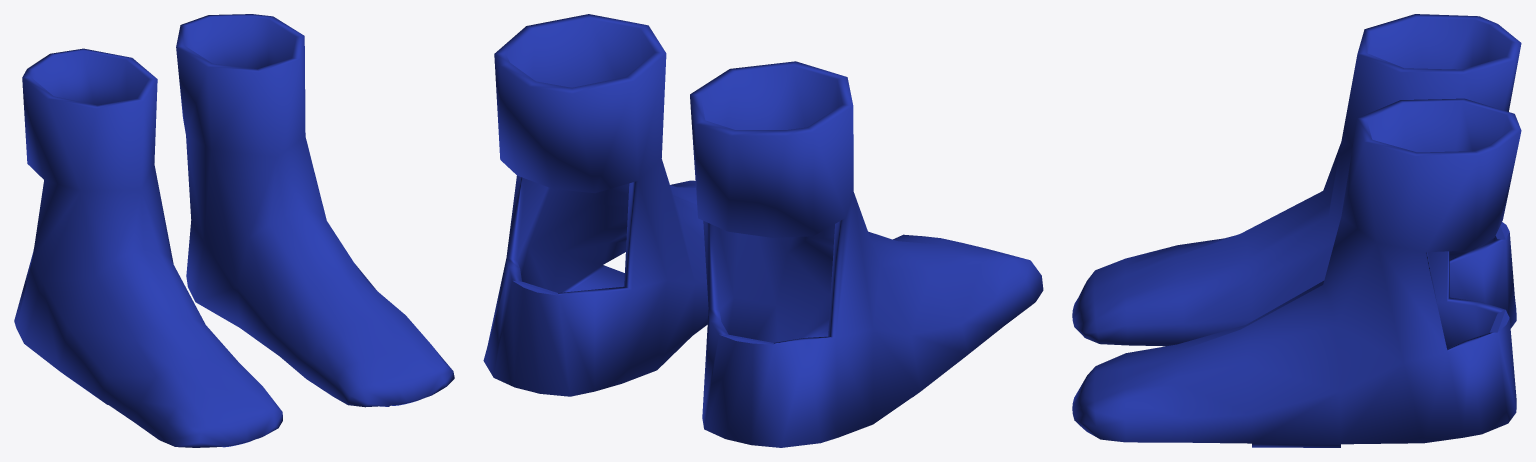
File: Kick_Boots.fbx
The picture shows the model from 3 angles, left to right: view 1: azimuth 30°, elevation 25°; view 2: azimuth 150°, elevation 25°; view 3: azimuth 270°, elevation 25°; orthographic projection. The views are drawn at different scales.
Visible parts, largest first — view 1: Boots; view 2: Boots; view 3: Boots.
Part boxes in pixels (box(x1,y1,x2,y2)): Boots: box(14, 14, 454, 447); Boots: box(483, 14, 1043, 447); Boots: box(1072, 14, 1521, 447).
Size of the model in its own units: 59.87 by 48.79 by 68.65.
